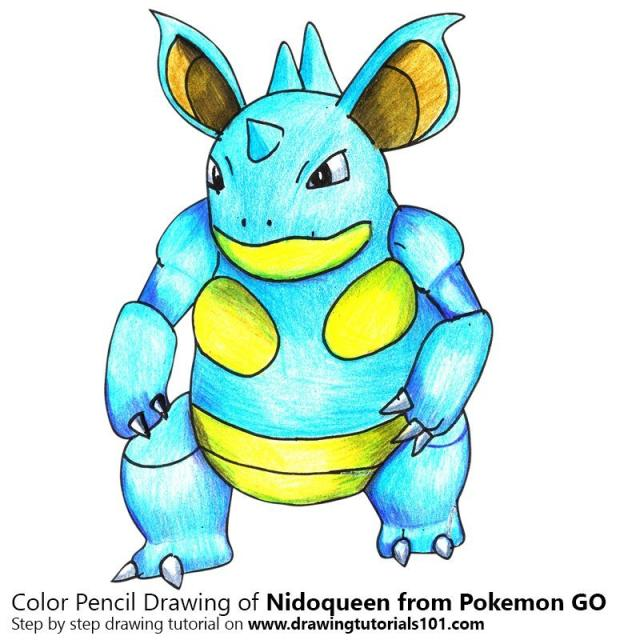Nidoqueen: (120, 10, 487, 578)
